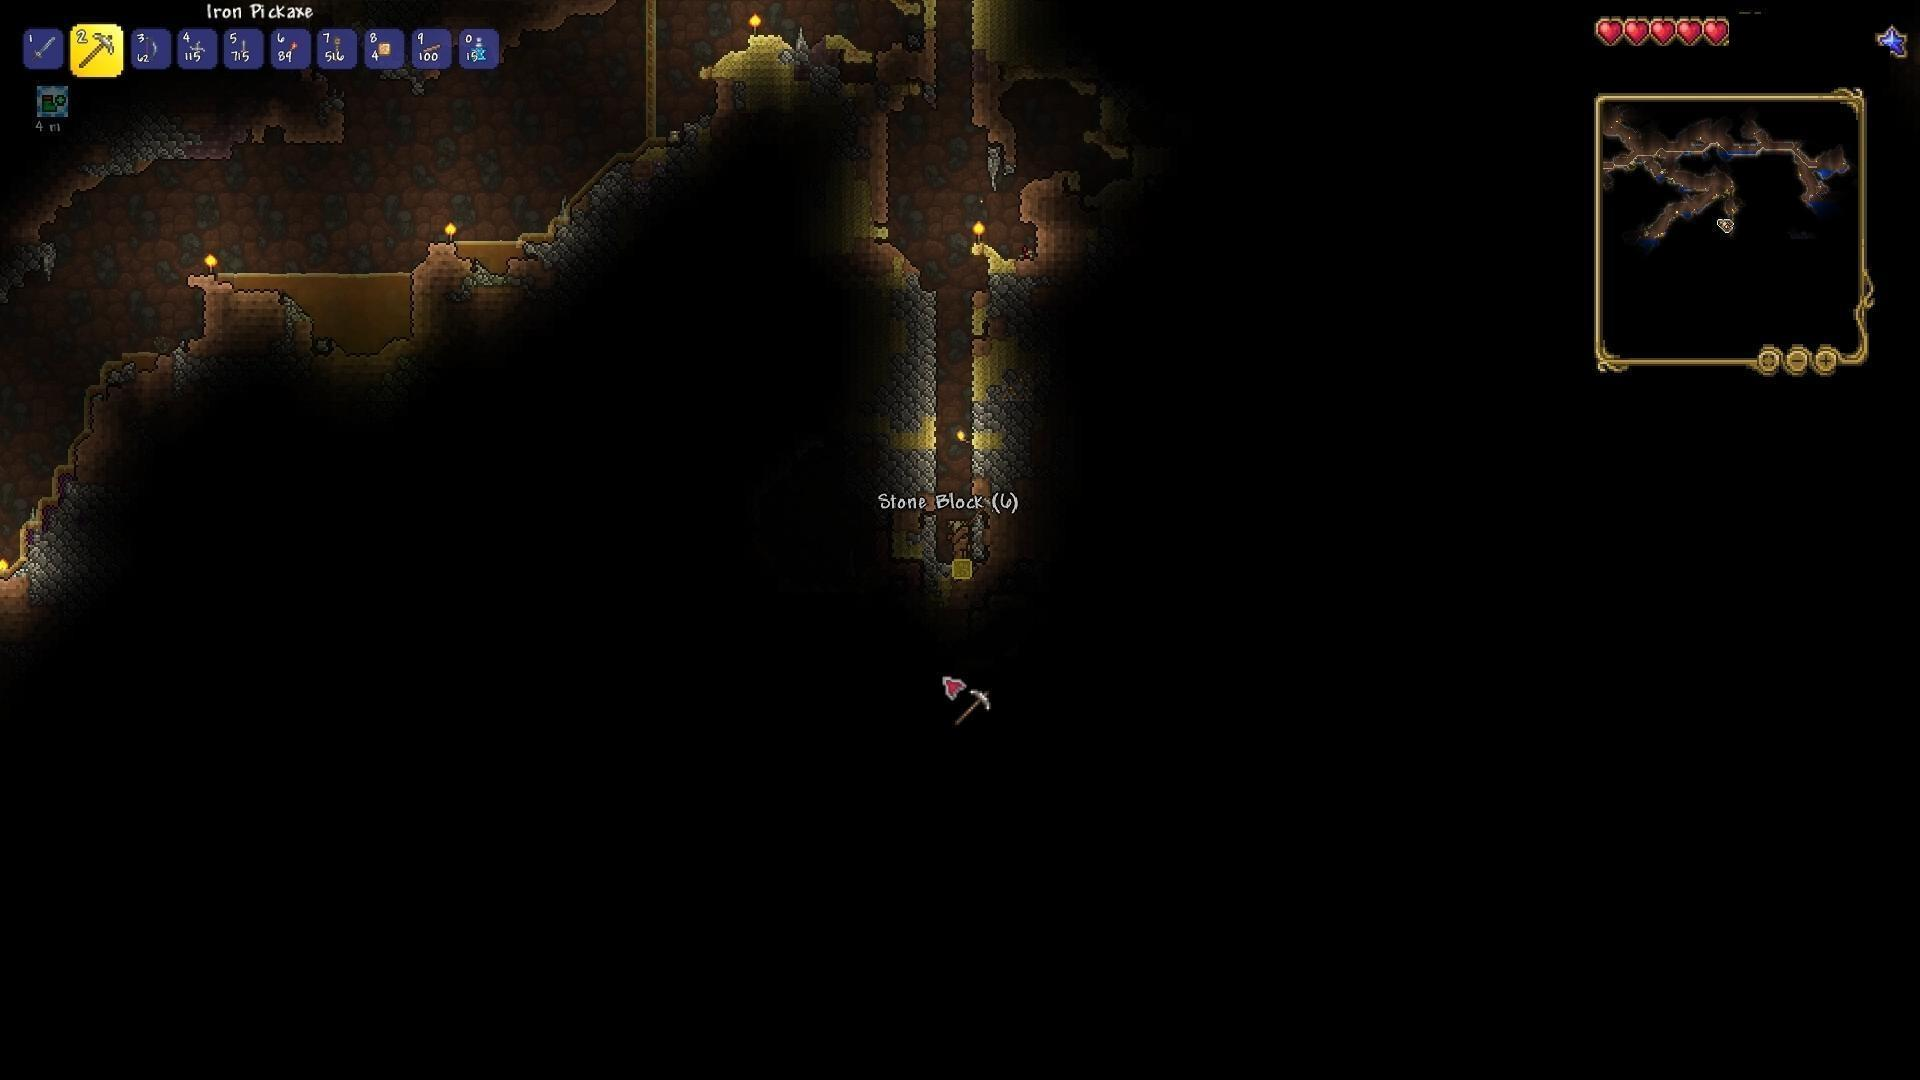heart: (1702, 17, 1733, 51), (1593, 16, 1626, 46), (1676, 15, 1704, 50), (1650, 16, 1676, 49), (1625, 15, 1651, 44)
sand: (700, 30, 803, 113), (968, 331, 1026, 406), (963, 0, 1025, 61), (891, 405, 949, 447), (967, 236, 1014, 277)
stone: (25, 504, 120, 587), (891, 284, 948, 404), (537, 183, 618, 260), (88, 115, 189, 175), (866, 435, 947, 502), (972, 414, 1035, 498)
